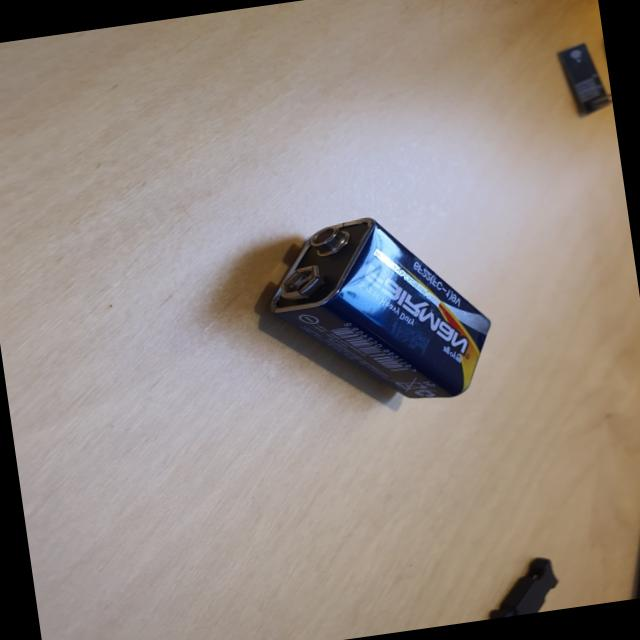battery-etc-etc: (237, 188, 508, 432)
